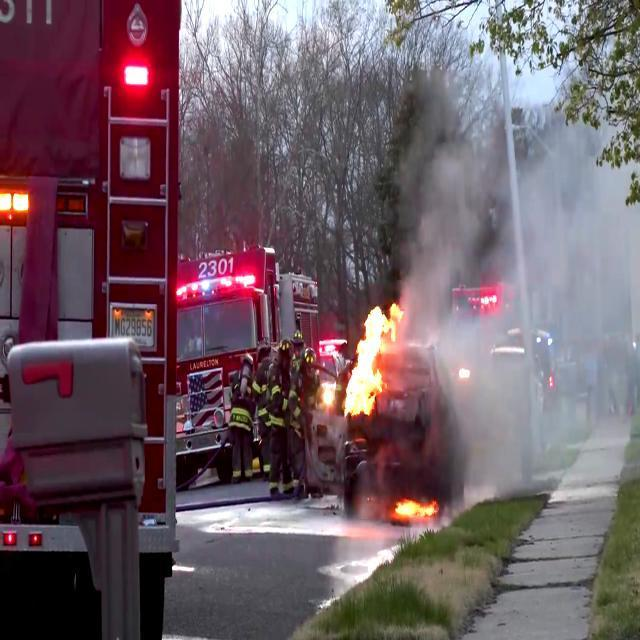Fire: (343, 282, 408, 422), (391, 488, 437, 524)
Smoke: (410, 3, 640, 510)
